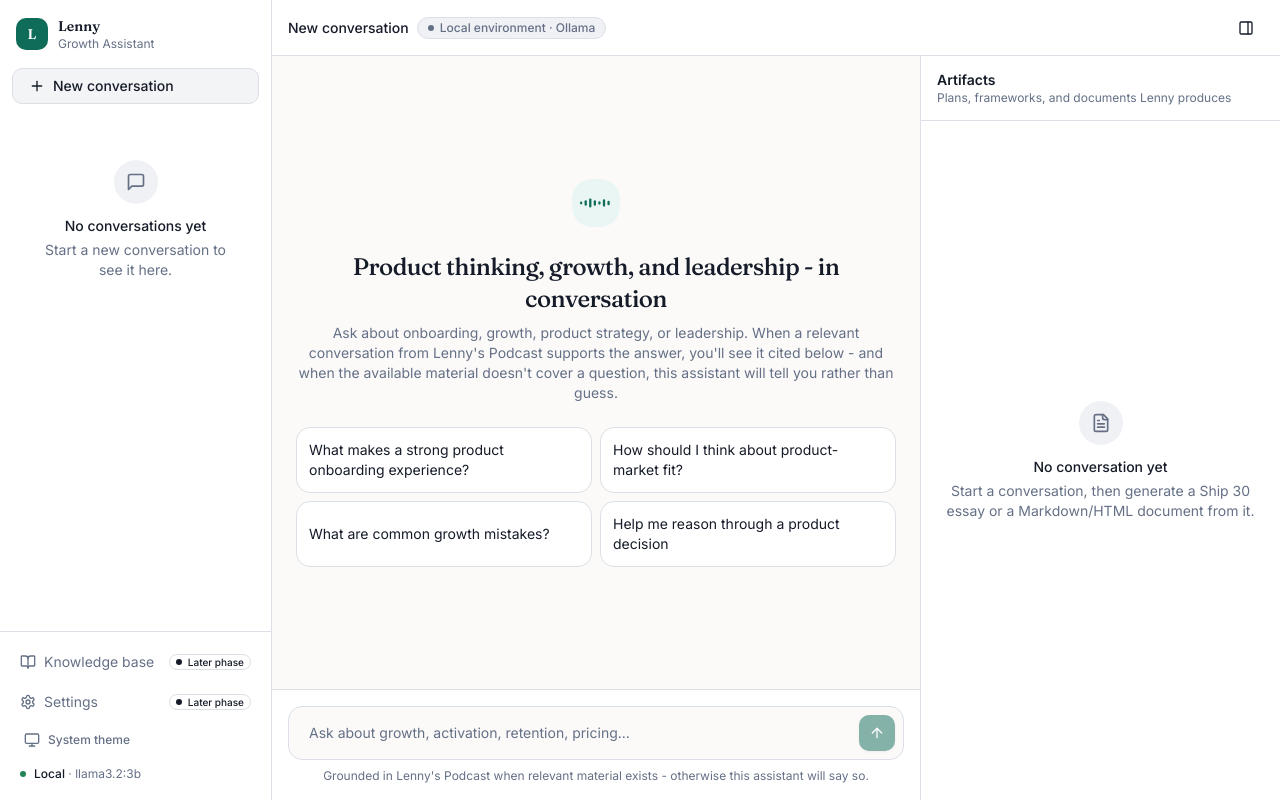
Scenario: empty state › fills the composer without sending when a suggested prompt is clicked
expect the text "No conversations yet" is shown: met, box [65, 217, 206, 234]
What coordinates should you click on to do the following:
click the button "Help me reason through a product decision"
I would click on:
 (748, 534)
Its box is [600, 500, 896, 566].
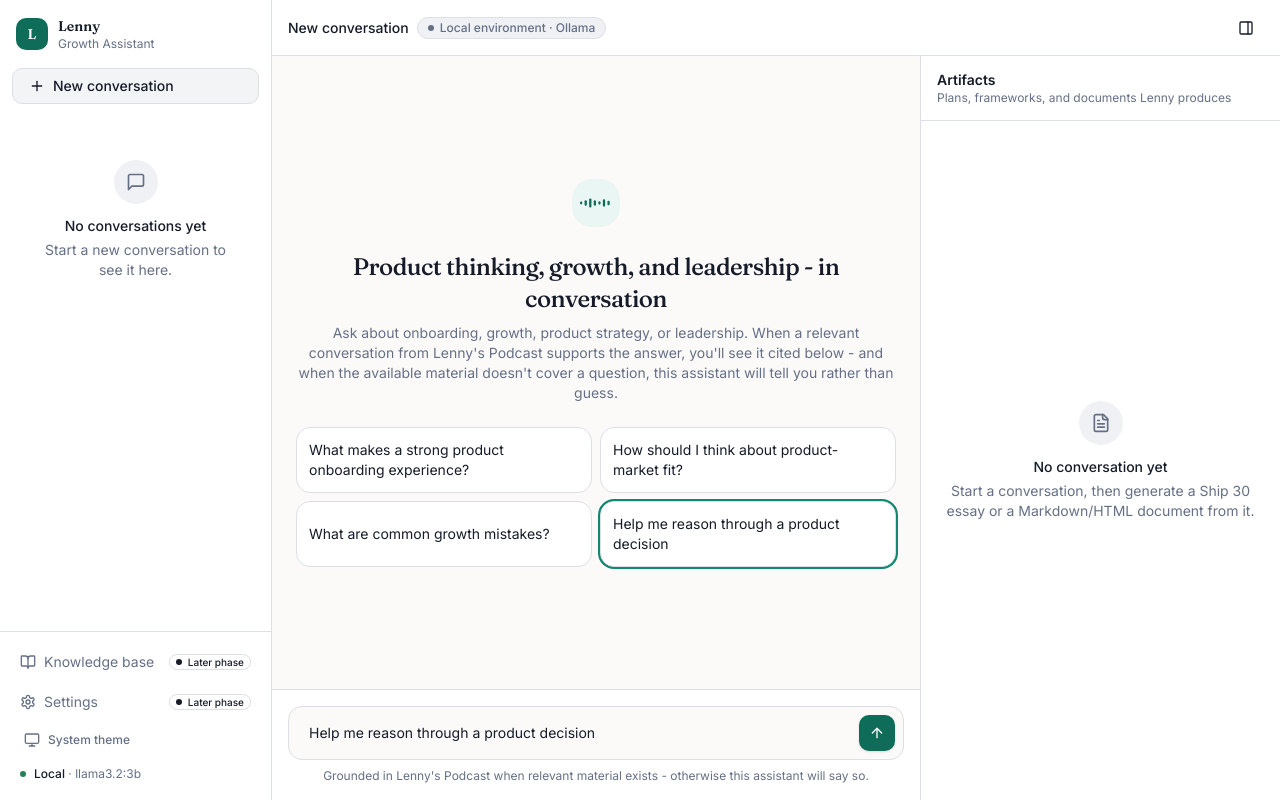
expect the text box named "message lenny growth assistant" holds "Help me reason through a product decision": met, box [297, 715, 851, 751]
